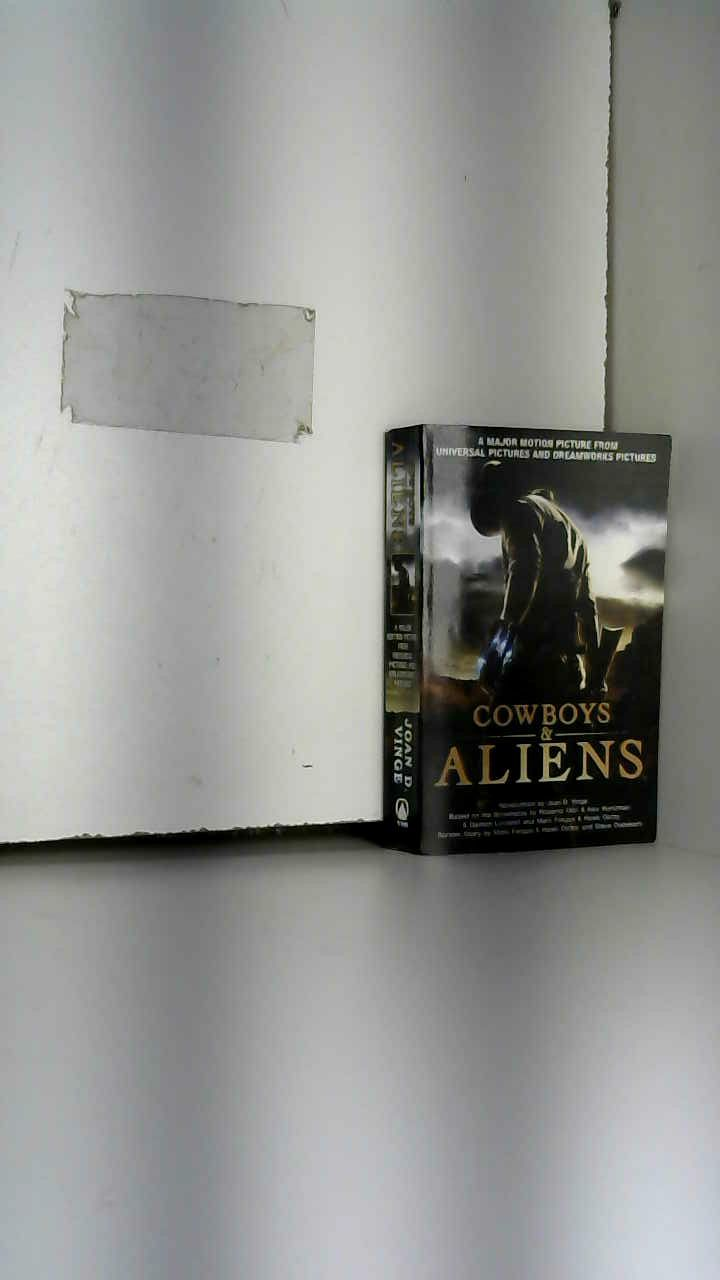book: (345, 387, 700, 898)
